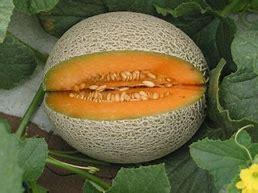Melon Ripe: (42, 11, 211, 164)
